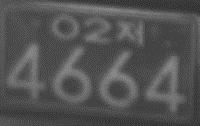0: (50, 13, 80, 40)
2: (84, 16, 114, 43)
4: (5, 42, 46, 102), (146, 54, 187, 113)
6: (97, 49, 139, 109), (52, 45, 92, 105)
저: (115, 18, 145, 45)
